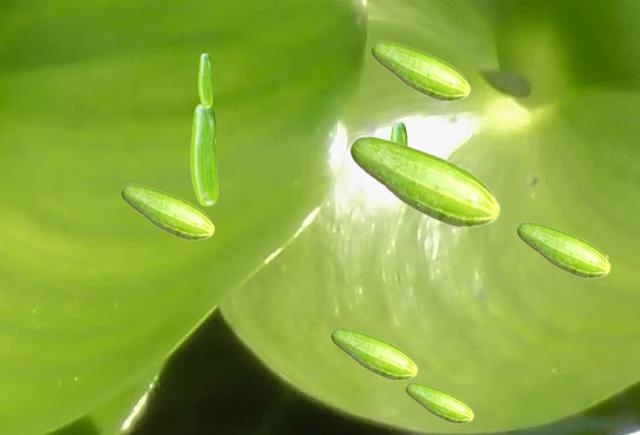cucumber: (349, 135, 500, 228), (370, 40, 470, 101), (120, 183, 214, 240), (516, 221, 610, 278), (330, 327, 417, 380), (405, 382, 473, 423), (190, 103, 217, 205), (198, 53, 211, 107), (390, 122, 407, 143)
